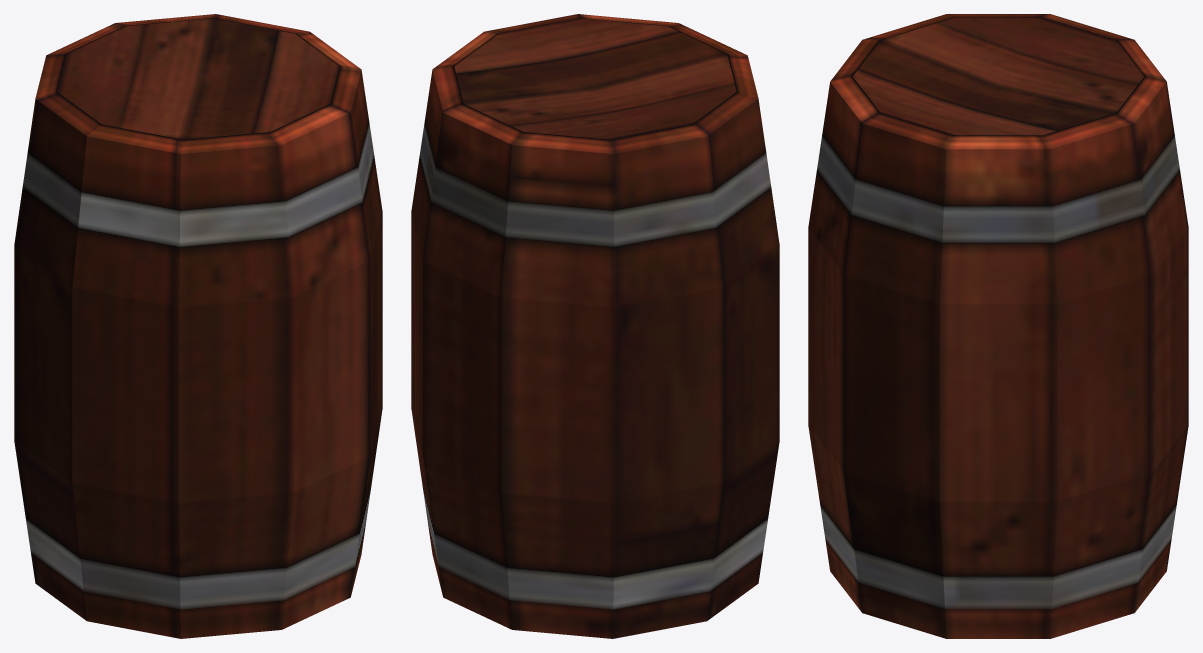
File: barrel.glb
3 renders of one model, left to right at view 1: azimuth 30°, elevation 25°; view 2: azimuth 150°, elevation 25°; view 3: azimuth 270°, elevation 25°, orthographic.
Parts seen in each view (by area): view 1: Sphere; view 2: Sphere; view 3: Sphere.
Boxes of the visible parts, x1,y1,x2,y2 form: Sphere: [14, 14, 382, 638]; Sphere: [411, 14, 779, 638]; Sphere: [808, 14, 1188, 638].
Bounding box in the file's own units: 0.519 × 0.791 × 0.5457.
1 material, 1 textured.
